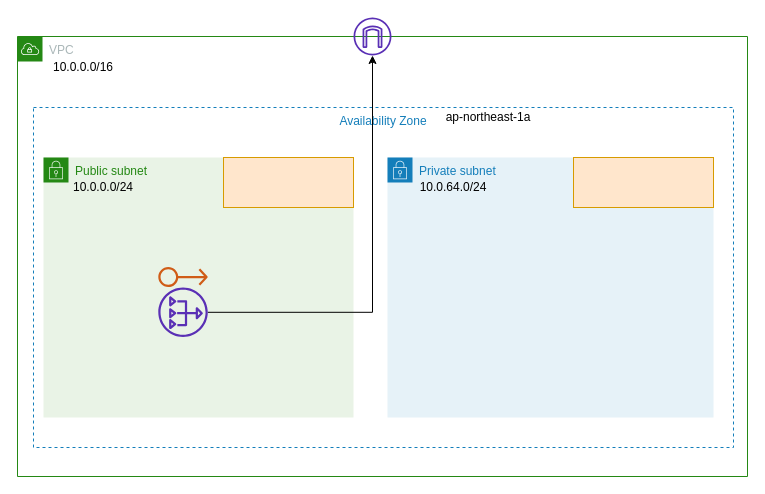
Some shapes in this 765 by 494 pixel diagram are drawn without their labels. Each missing label, with the centre of its shape:
"ルートテーブル destination: 0.0.0.0/0 target: igw" belongs at [288,182].
"ルートテーブル destination: 10.0.0.0/16 target: local" belongs at [643,182].
